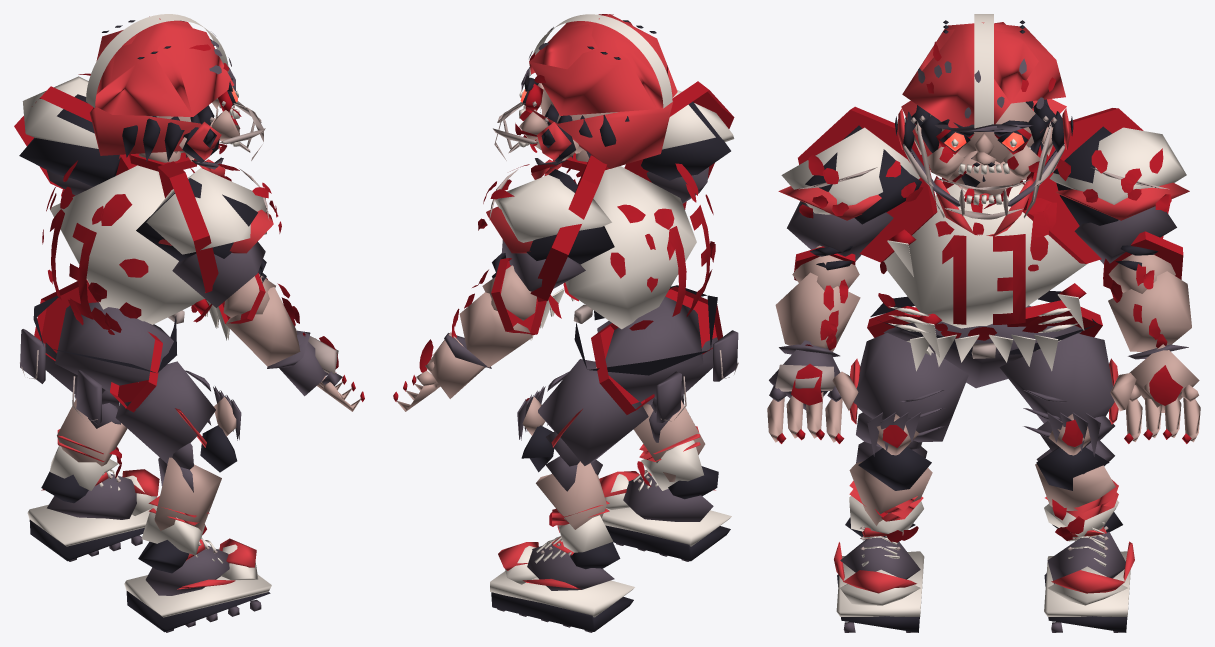
The model's file is inf.armored-football.lod2.glb.
3 renders of one model, left to right at view 1: azimuth 30°, elevation 25°; view 2: azimuth 150°, elevation 25°; view 3: azimuth 270°, elevation 25°, orthographic. The views are drawn at different scales.
Visible parts, largest first — view 1: head, torso, armR, footR, hip, footL, legR, shinR, armL, foreArmR, shinL, handR (+7 smaller); view 2: head, torso, hip, footL, armL, footR, legL, shinL, armR, foreArmL, shinR, handL (+6 smaller); view 3: head, torso, armL, armR, legR, legL, footL, footR, shinR, foreArmL, shinL, handR (+8 smaller).
Part boxes in pixels (x1=…): head: x1=86, y1=14, x2=265, y2=169; torso: x1=42, y1=159, x2=229, y2=340; armR: x1=136, y1=163, x2=281, y2=307; footR: x1=124, y1=537, x2=271, y2=632; hip: x1=20, y1=296, x2=184, y2=425; footL: x1=27, y1=469, x2=159, y2=561; legR: x1=115, y1=361, x2=241, y2=463; shinR: x1=141, y1=425, x2=237, y2=555; armL: x1=19, y1=73, x2=120, y2=195; foreArmR: x1=223, y1=274, x2=310, y2=368; shinL: x1=49, y1=390, x2=127, y2=490; handR: x1=279, y1=334, x2=364, y2=411; head: x1=493, y1=14, x2=677, y2=168; torso: x1=530, y1=159, x2=715, y2=340; hip: x1=573, y1=285, x2=738, y2=422; footL: x1=490, y1=536, x2=634, y2=632; armL: x1=478, y1=164, x2=614, y2=291; footR: x1=599, y1=466, x2=731, y2=561; legL: x1=517, y1=359, x2=648, y2=465; shinL: x1=521, y1=425, x2=613, y2=552; armR: x1=641, y1=90, x2=734, y2=203; foreArmL: x1=444, y1=265, x2=536, y2=368; shinR: x1=633, y1=395, x2=705, y2=490; handL: x1=393, y1=332, x2=485, y2=411; head: x1=895, y1=14, x2=1073, y2=219; torso: x1=878, y1=176, x2=1087, y2=371; armL: x1=1049, y1=126, x2=1189, y2=270; armR: x1=778, y1=125, x2=923, y2=270; legR: x1=849, y1=333, x2=968, y2=456; legL: x1=999, y1=333, x2=1118, y2=456; footL: x1=1044, y1=512, x2=1134, y2=632; footR: x1=834, y1=517, x2=924, y2=632; shinR: x1=849, y1=412, x2=932, y2=542; foreArmL: x1=1108, y1=254, x2=1191, y2=359; shinL: x1=1035, y1=415, x2=1119, y2=540; handR: x1=767, y1=340, x2=858, y2=443.
Size of the model in its own units: 0.6902 by 1.63 by 1.08.
